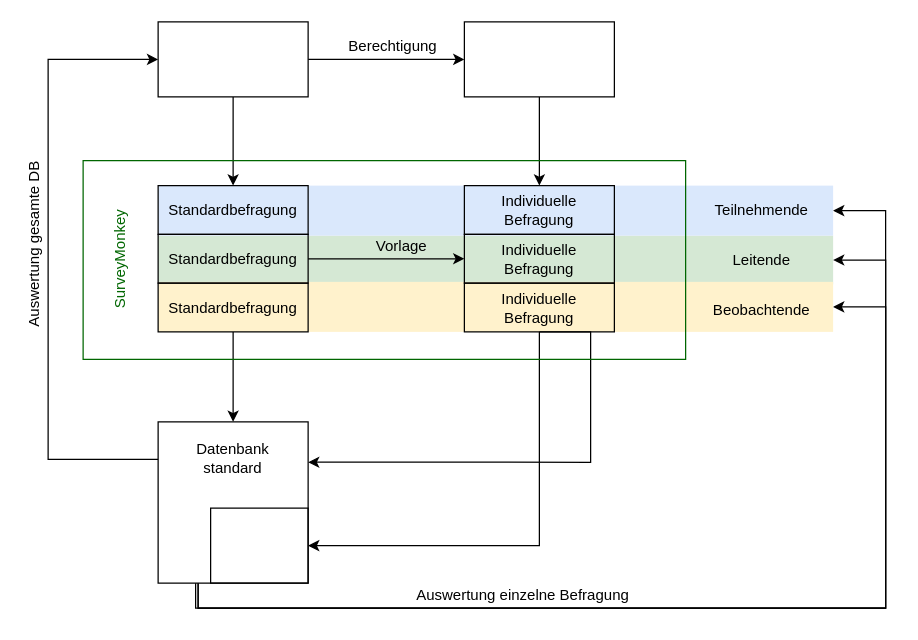
Some shapes in this 918 by 640 pixel diagram are drawn without their labels. The centre of each missing label's shape, as x and y in pixels:
"Admin" goes at pixel 232 59.
"Datenbank Individuell" goes at pixel 258 545.
"Einzelnutzer" goes at pixel 538 59.
